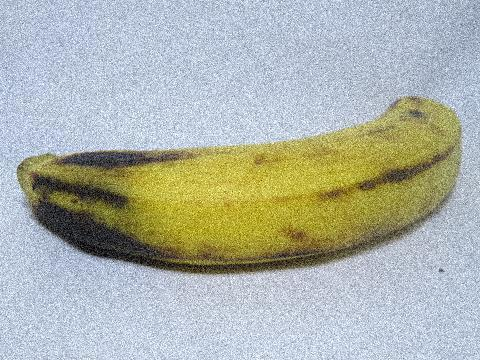ripe: (12, 89, 471, 279)
